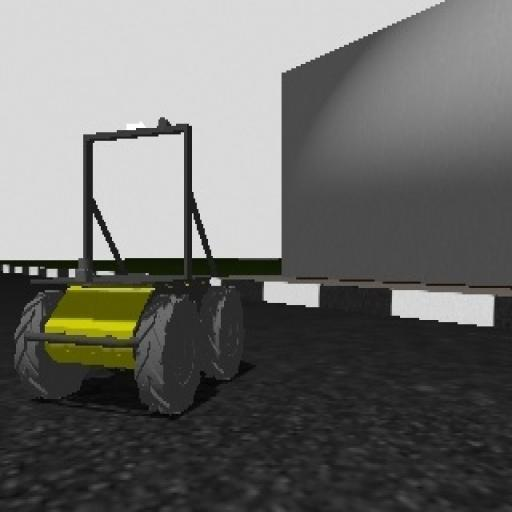huskya200: (7, 107, 247, 451)
